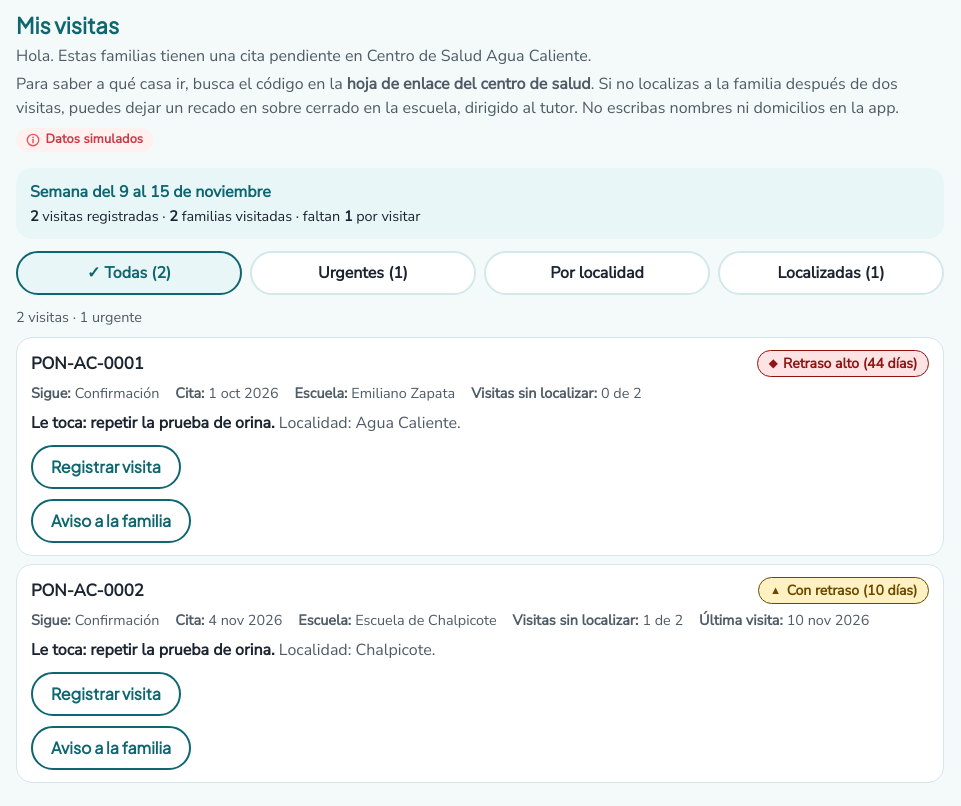
Test case: Mis visitas: semana, pestañas y tarjeta (HU04) › abre en "Todas" y las pestañas filtran
Expected: the text "PON-AC-0001" is shown, [31,351,144,376]
Click the button "Urgentes (1)" at (363, 273), box [250,251,476,295]
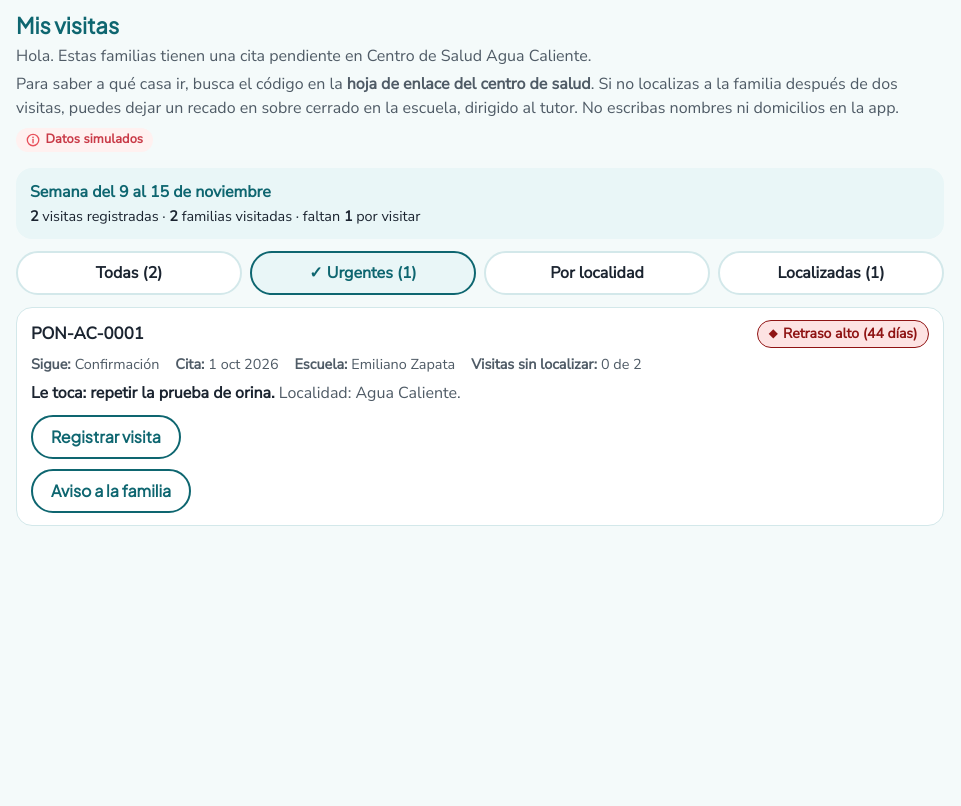
Click the button "Localizadas (1)" at (831, 273), box [718,251,944,295]
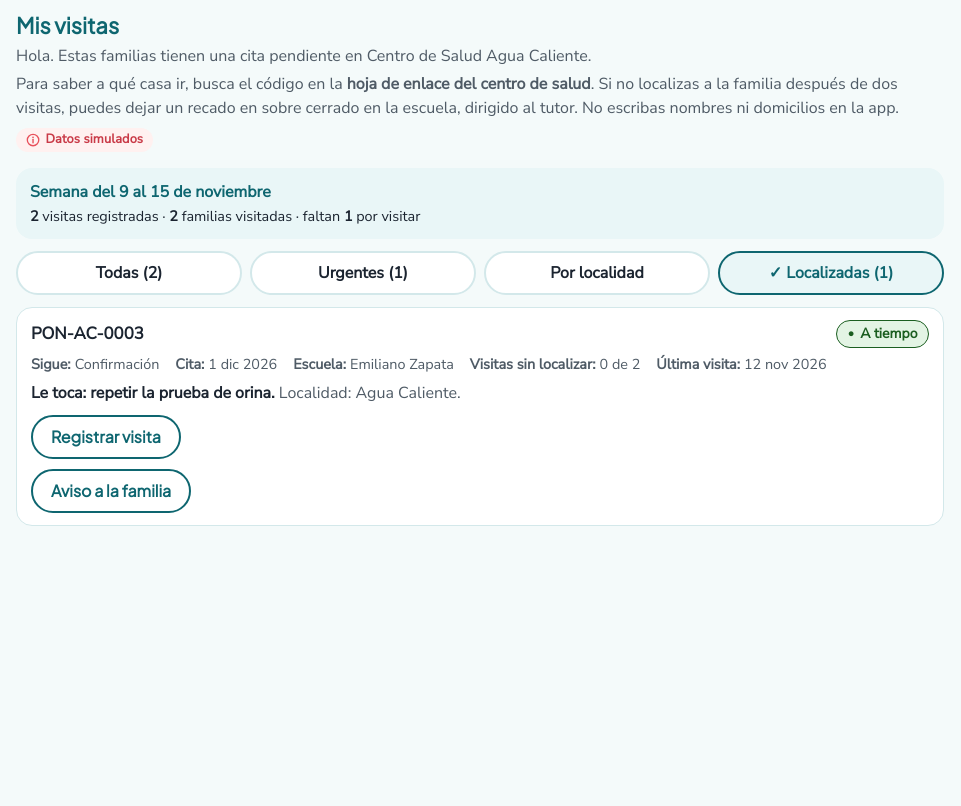
Click the button "Por localidad" at (597, 273), box [484,251,710,295]
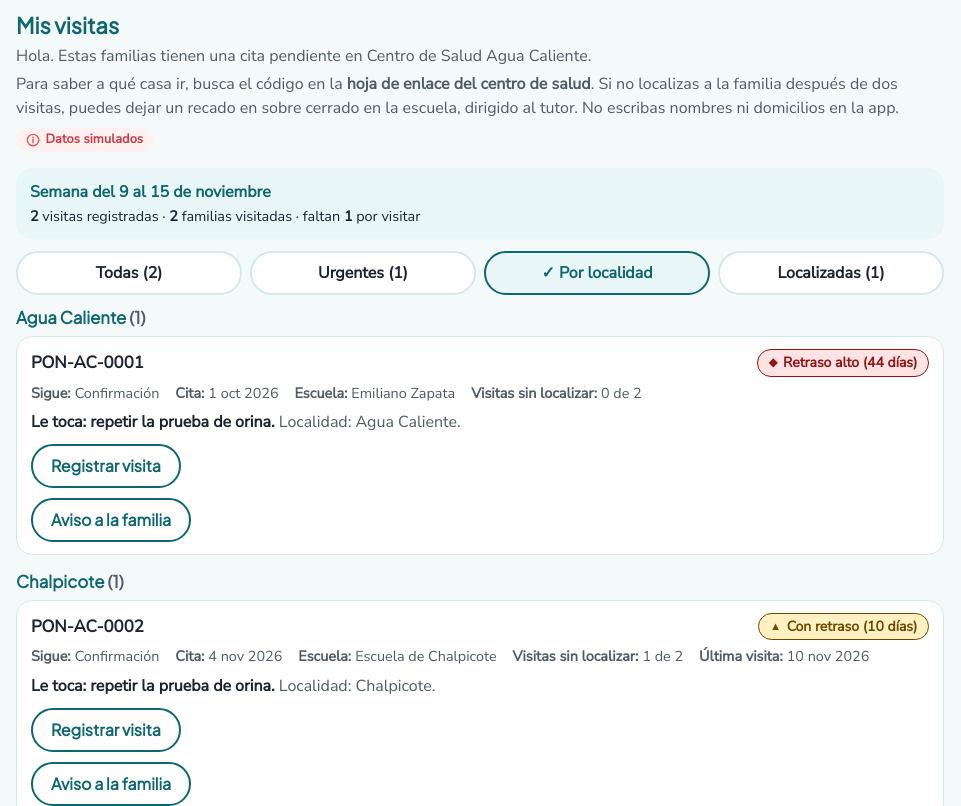
Now the heading "Agua Caliente (1)" is shown, box [16,307,145,328]
Now the heading "Chalpicote (1)" is shown, box [16,571,124,592]
